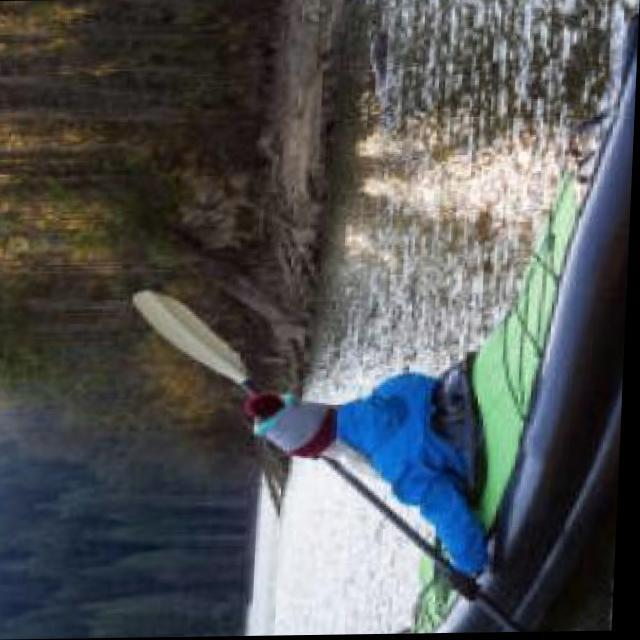kayak: (136, 11, 639, 635), (139, 14, 639, 635), (184, 14, 639, 635), (262, 16, 639, 635), (279, 14, 639, 635), (286, 14, 639, 635)
